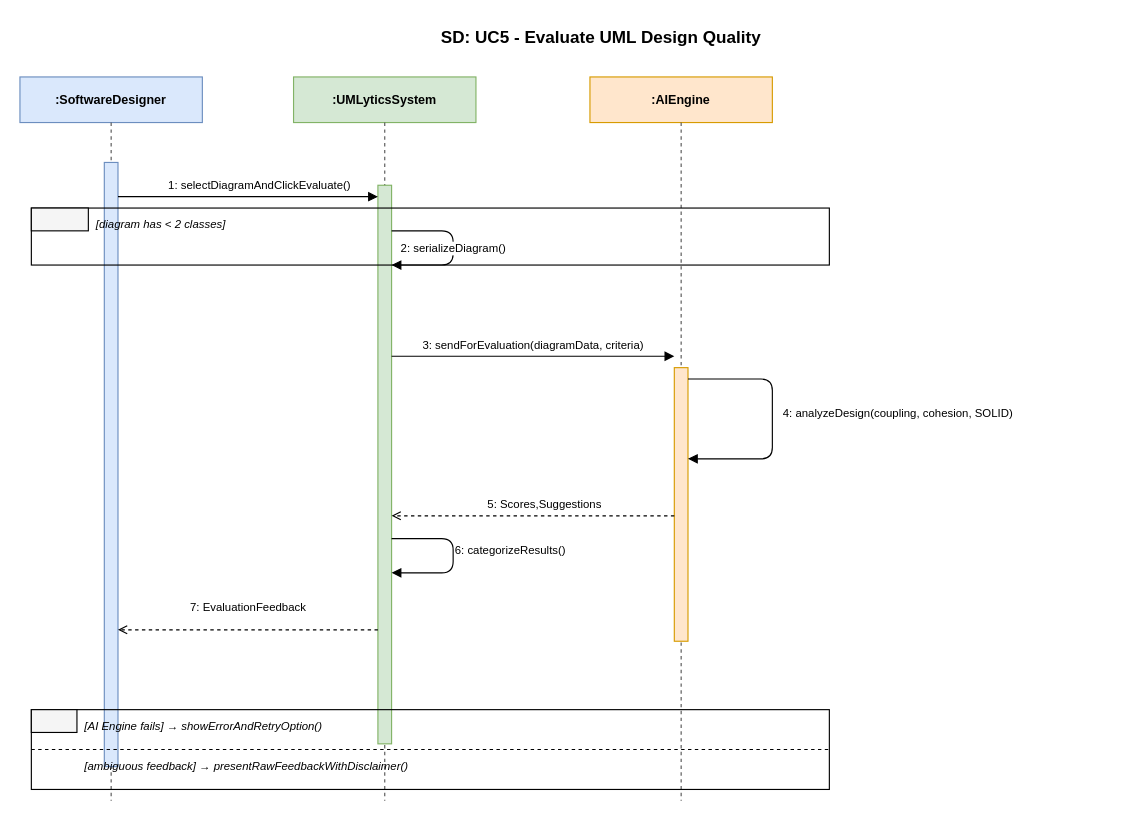
Image size: 1134x822. Some labels were removed from this diagram. Each missing label, with the centre of its shape:
"alt" belongs at (x=53, y=720).
"opt" belongs at (x=59, y=219).
